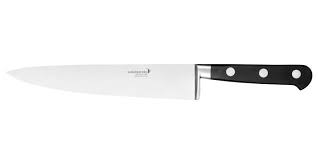knife: (4, 62, 313, 102)
